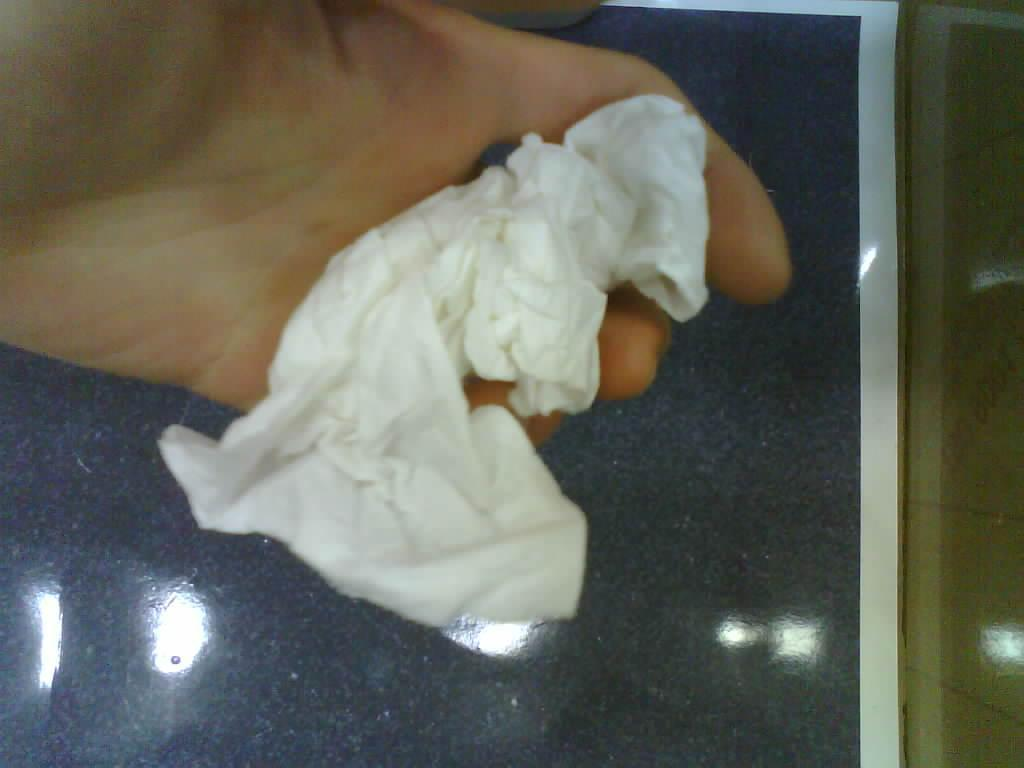paper: (162, 94, 708, 624)
